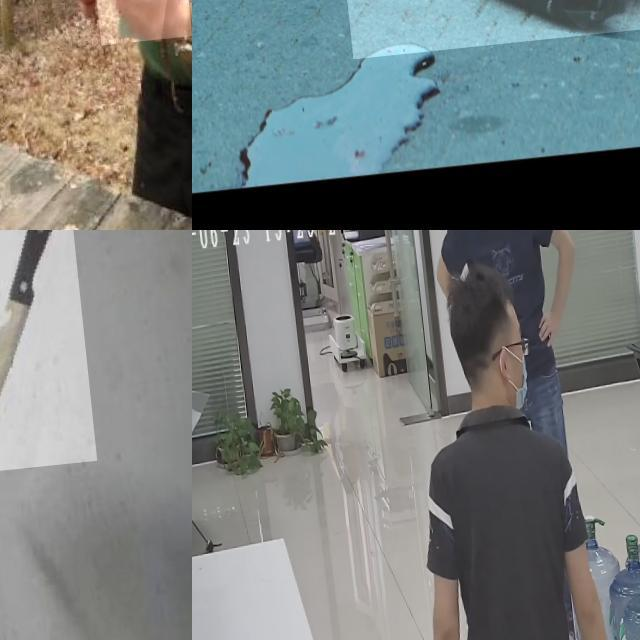-: (0, 230, 89, 479), (79, 0, 185, 94)
gun-knife-thesis - v11 Yolov5 augmented: (327, 0, 640, 112)
